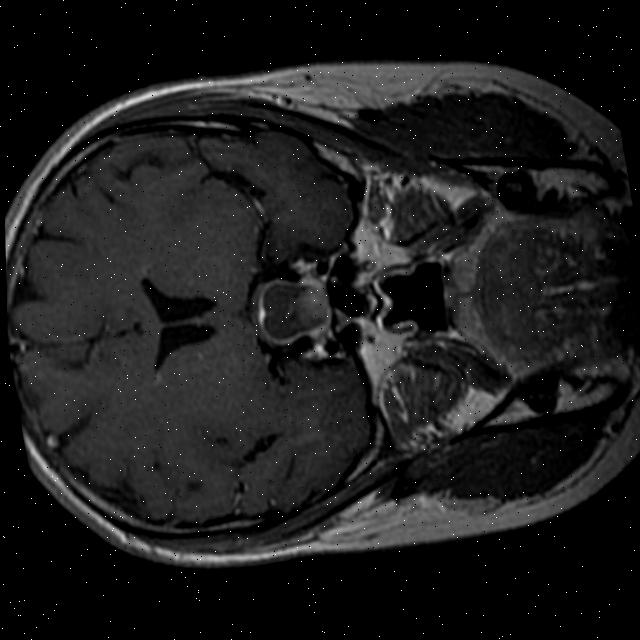Pituitary: (251, 270, 336, 349)
